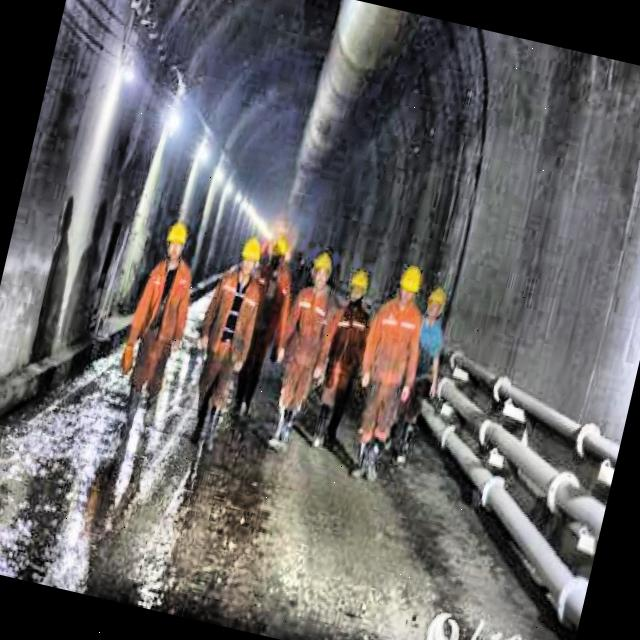helmet: (158, 219, 192, 267), (233, 232, 266, 280), (342, 263, 373, 309), (306, 247, 338, 291), (396, 260, 428, 304), (422, 282, 451, 324), (266, 237, 292, 275)
